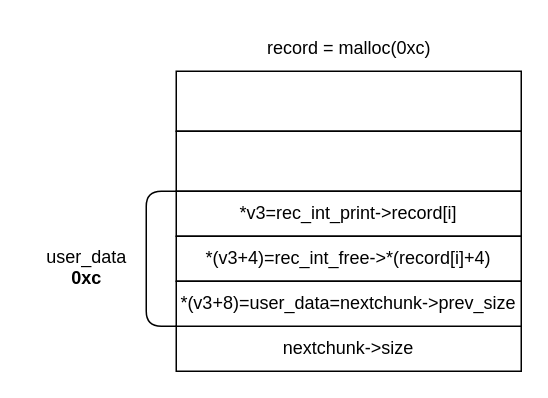
The diagram is 548 pixels wide and 398 high, and some of its shapes have lost their labels. Here are the shapes that lost their labels. From the top down, the box of each, then its label:
(175, 70, 521, 131): prev_size
(175, 130, 521, 191): size=0x11
